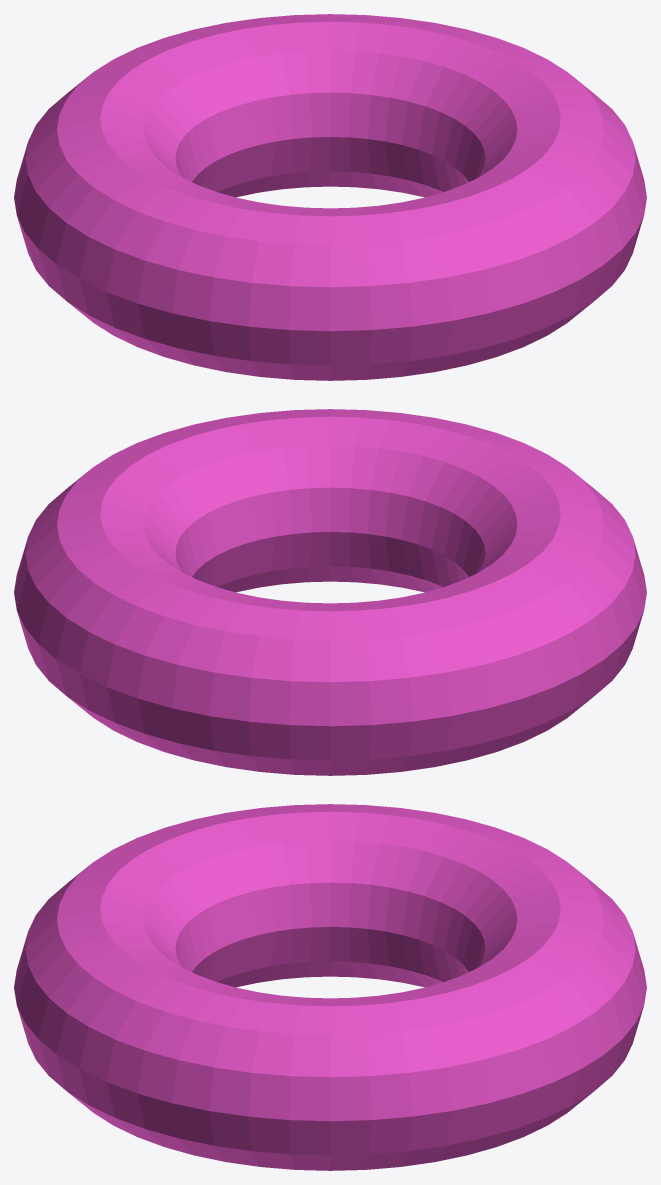
The picture shows the model from 3 angles, top to bottom: view 1: azimuth 30°, elevation 25°; view 2: azimuth 150°, elevation 25°; view 3: azimuth 270°, elevation 25°; orthographic projection.
Parts seen in each view (by area): view 1: Torus; view 2: Torus; view 3: Torus.
Part boxes in pixels (x1,y1,x2,y2): Torus: (14, 14, 646, 380); Torus: (14, 409, 646, 775); Torus: (14, 804, 646, 1170).
Bounding box in the file's own units: 2.75 × 0.7532 × 2.75.
